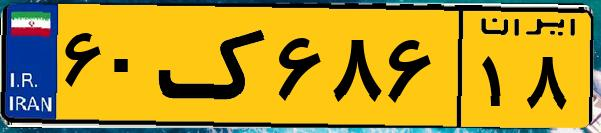0: (110, 28, 158, 98)
1: (475, 38, 525, 113)
6: (270, 28, 330, 110), (385, 28, 445, 110), (57, 26, 110, 100)
8: (330, 28, 385, 110), (525, 38, 570, 115)
ک: (158, 12, 270, 120)
